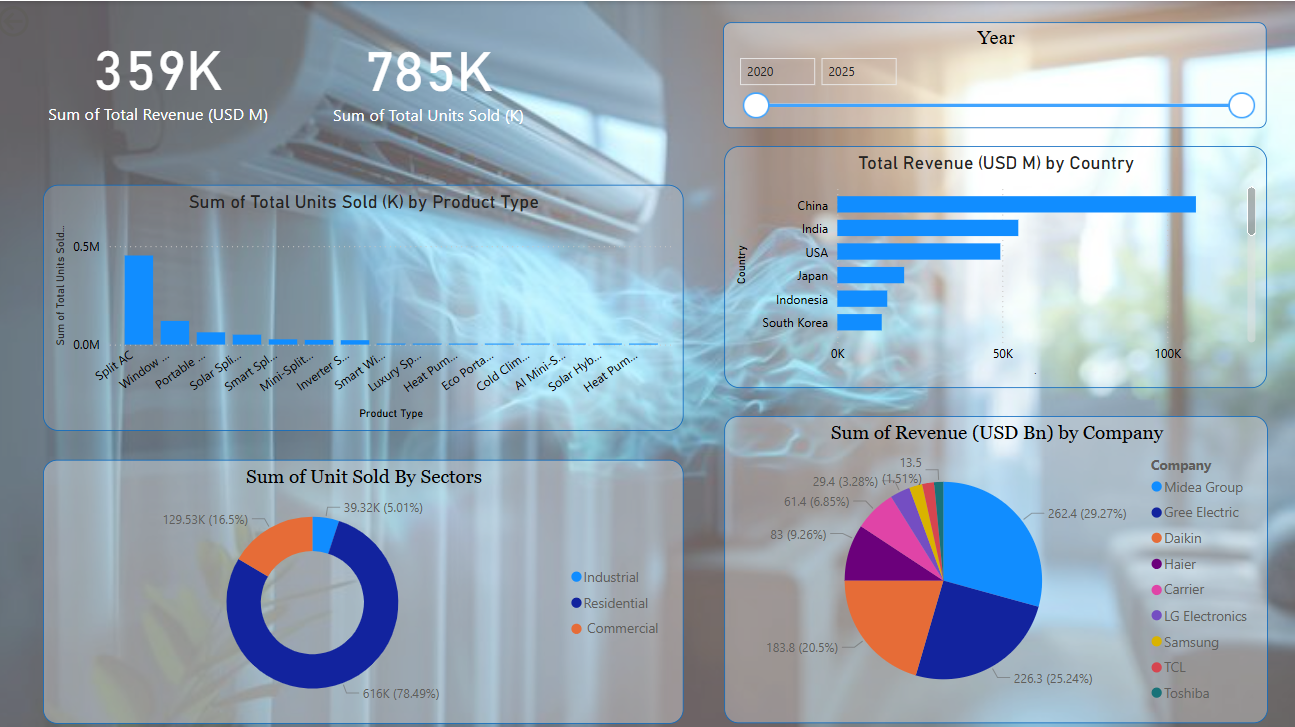

What the dashboard file says about the page in this screenshot:
{"tool":"powerbi","page":{"name":"Page 1","canvas":[1280,720],"ordinal":0},"visuals":[{"type":"barChart","title":"Total Revenue (USD M) by Country","fields":{"Category":["Sheet1.Country"],"Y":["Sum(Sheet1.Total Revenue (USD M))"]},"box":[717.7,142.7,532.4,237.4],"z":0},{"type":"card","fields":{"Values":["Sum(Sheet1.Total Revenue (USD M))"]},"box":[37,2.7,251.1,140],"z":1000},{"type":"actionButton","box":[0,0,100,40],"z":2000},{"type":"slicer","title":"Year","fields":{"Values":["Sheet1.Year"]},"box":[716.3,20.6,533.8,104.3],"z":3000},{"type":"donutChart","title":"Sum of Unit Sold By Sectors","fields":{"Y":["Sum(Sheet1.Industrial Units Sold (K))","Sum(Sheet1.Residential Units Sold (K))","Sum(Sheet1.Commercial Units Sold (K))"]},"box":[49.4,450.1,628.5,259.3],"z":4000},{"type":"pieChart","fields":{"Category":["Sheet1 (3).Company"],"Y":["Sum(Sheet1 (3).Revenue (USD Bn))"]},"box":[717.7,407.5,533.8,301.9],"z":5000},{"type":"card","fields":{"Values":["Sum(Sheet1.Total Units Sold (K))"]},"box":[299.1,8.2,256.6,129],"z":6000},{"type":"columnChart","fields":{"Category":["Sheet1.Product Type"],"Y":["Sum(Sheet1.Total Units Sold (K))"]},"box":[49.4,179.8,628.5,241.5],"z":7000}]}

Visuals, with their boxes in screenshot pixels (x1, y1, x2, y2), scaled from the page's 1280x720 canvas onto the 1295x727 screenshot:
"Total Revenue (USD M) by Country" barChart: [726, 144, 1265, 384]
card - Sum(Sheet1.Total Revenue (USD M)): [37, 3, 291, 144]
actionButton: [0, 0, 101, 40]
"Year" slicer: [725, 21, 1265, 126]
"Sum of Unit Sold By Sectors" donutChart: [50, 454, 686, 716]
pieChart - Sheet1 (3).Company x Sum(Sheet1 (3).Revenue (USD Bn)): [726, 411, 1266, 716]
card - Sum(Sheet1.Total Units Sold (K)): [303, 8, 562, 139]
columnChart - Sheet1.Product Type x Sum(Sheet1.Total Units Sold (K)): [50, 182, 686, 425]
